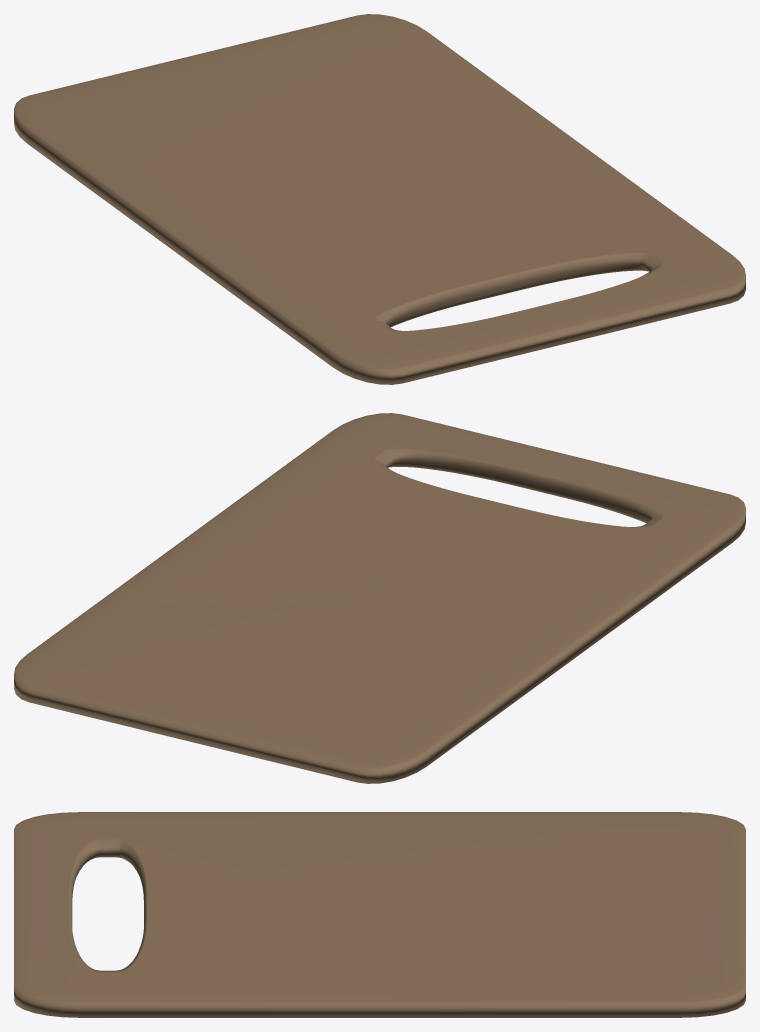
File: Chopping board.fbx
The picture shows the model from 3 angles, top to bottom: view 1: azimuth 30°, elevation 25°; view 2: azimuth 150°, elevation 25°; view 3: azimuth 270°, elevation 25°; orthographic projection.
Parts seen in each view (by area): view 1: Cube; view 2: Cube; view 3: Cube.
Part boxes in pixels (left/top/right/bottom): Cube: left=14, top=14, right=745, bottom=384; Cube: left=14, top=413, right=745, bottom=783; Cube: left=14, top=812, right=745, bottom=1017.
Bounding box in the file's own units: 488 × 21.15 × 790.
